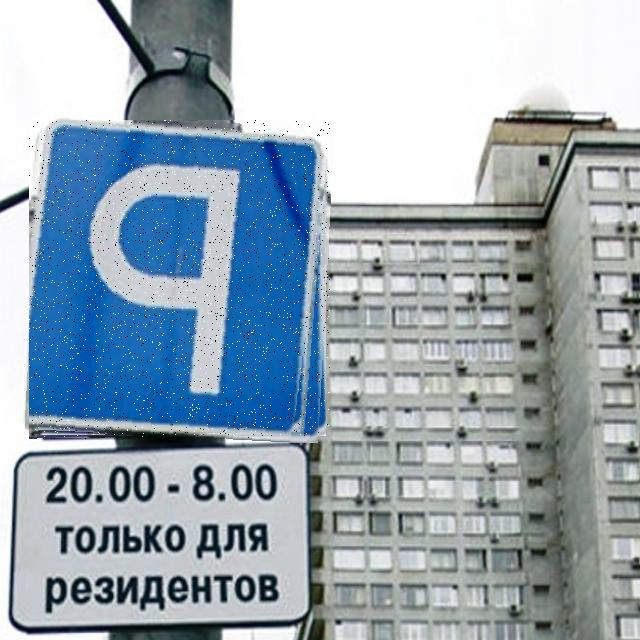parking: (29, 120, 330, 439)
